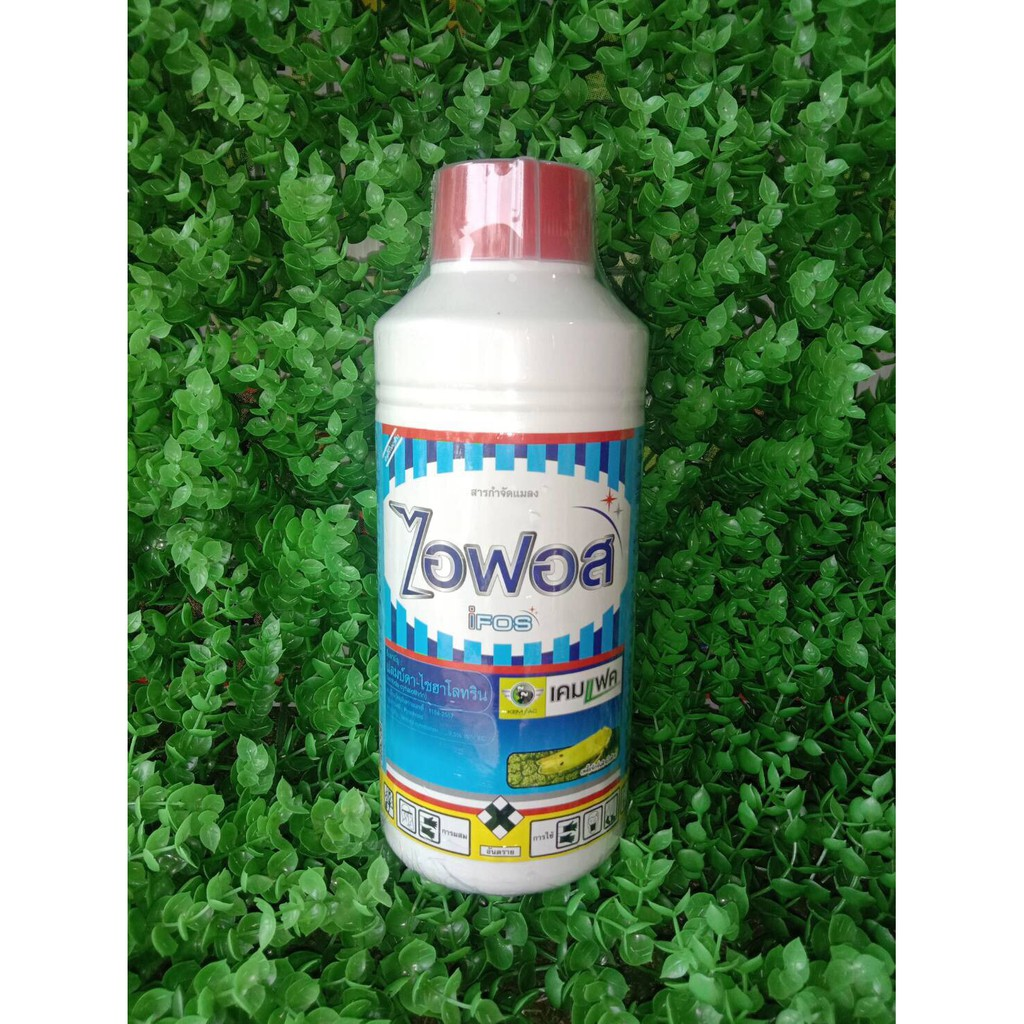Insecticide: (357, 145, 657, 906)
